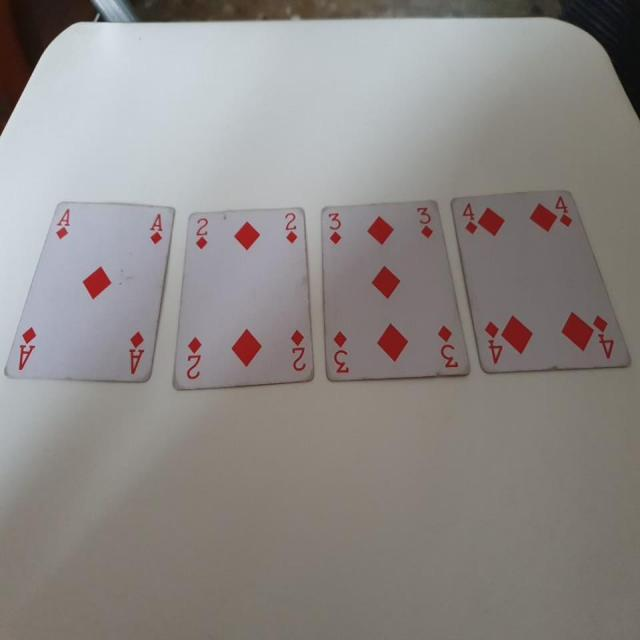2 Diamonds: (174, 204, 316, 392)
3 Diamonds: (318, 199, 473, 384)
4 Diamonds: (451, 185, 634, 379)
A Diamonds: (2, 202, 175, 397)
